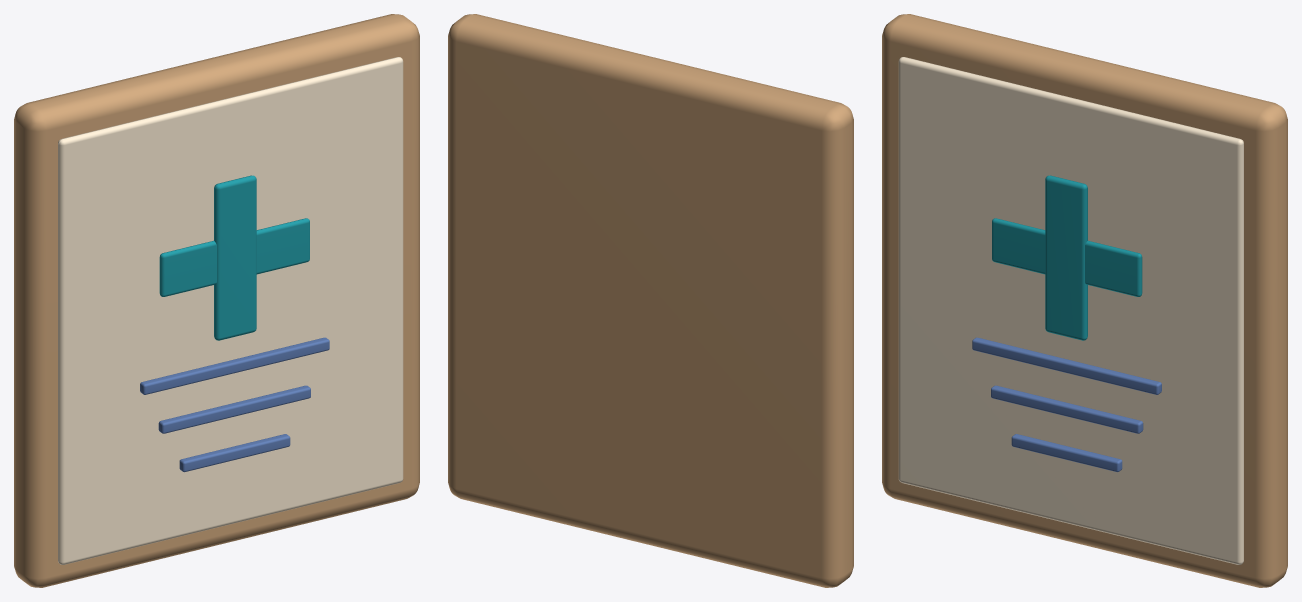
The model's file is artwork.glb.
3 views of the same model, side by side, from view 1: azimuth 30°, elevation 25°; view 2: azimuth 150°, elevation 25°; view 3: azimuth 330°, elevation 25° (orthographic).
Visible parts, largest first — view 1: Cream canvas, Oak frame, Teal cross.001, Teal cross, Graphic lines, Graphic lines.001, Graphic lines.002; view 2: Oak frame; view 3: Cream canvas, Oak frame, Teal cross.001, Teal cross, Graphic lines, Graphic lines.001, Graphic lines.002.
Part boxes in pixels (bbox=[...]): Cream canvas: bbox=[58, 57, 403, 564]; Oak frame: bbox=[14, 14, 419, 587]; Teal cross.001: bbox=[214, 175, 256, 340]; Teal cross: bbox=[159, 218, 309, 296]; Graphic lines: bbox=[140, 337, 329, 394]; Graphic lines.001: bbox=[158, 385, 310, 433]; Graphic lines.002: bbox=[179, 434, 290, 472]; Oak frame: bbox=[448, 14, 853, 587]; Cream canvas: bbox=[898, 57, 1243, 564]; Oak frame: bbox=[882, 14, 1287, 587]; Teal cross.001: bbox=[1045, 175, 1087, 340]; Teal cross: bbox=[992, 218, 1142, 296]; Graphic lines: bbox=[972, 337, 1161, 394]; Graphic lines.001: bbox=[991, 385, 1143, 433]; Graphic lines.002: bbox=[1011, 434, 1122, 472].
Size of the model in its own units: 0.95 by 1.1 by 0.136.
